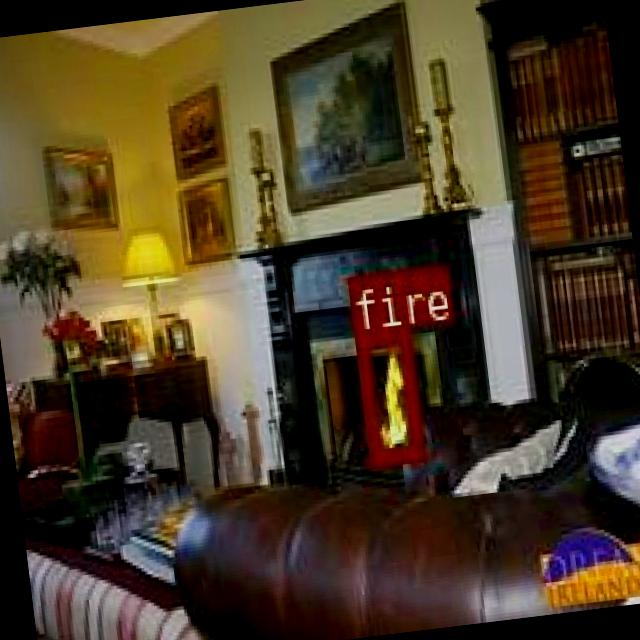fire: (352, 326, 422, 464)
